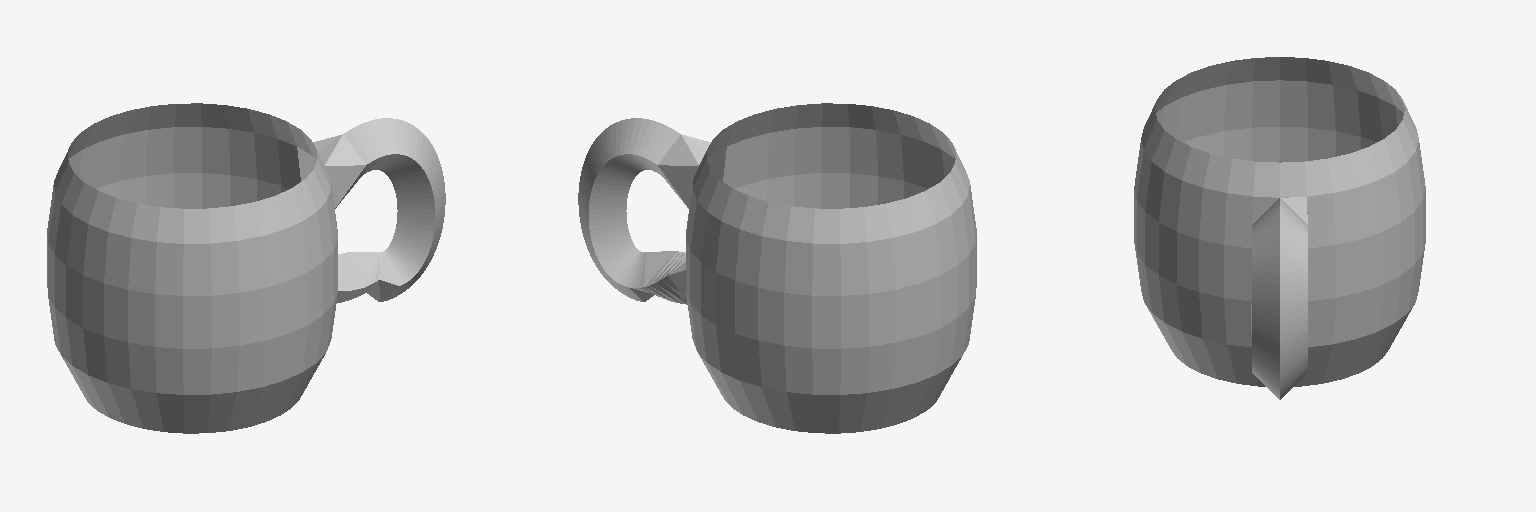
Rendered from cup.obj.
The picture shows the model from 3 angles: view 1: azimuth 30°, elevation 25°; view 2: azimuth 150°, elevation 25°; view 3: azimuth 270°, elevation 25°; orthographic projection.
Visible parts, largest first — view 1: Cup_CUNurbsPath; view 2: Cup_CUNurbsPath; view 3: Cup_CUNurbsPath.
Boxes of the visible parts, box(x1,y1,x2,y2) form: Cup_CUNurbsPath: box(47, 103, 445, 433); Cup_CUNurbsPath: box(578, 103, 976, 433); Cup_CUNurbsPath: box(1134, 57, 1425, 399).
Size of the model in its own units: 0.9459 by 0.5498 by 0.63.